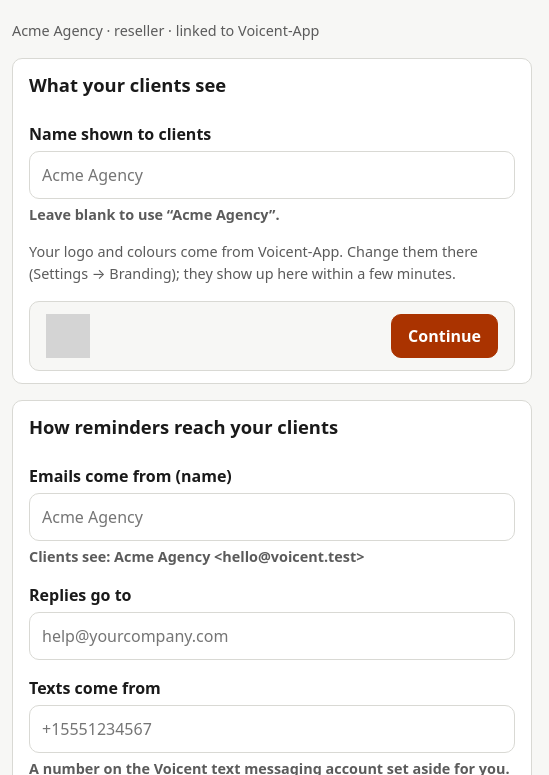
Settings › a linked org gets its logo and colours from Voicent-App, and the senders are saved
Expected: the text "come from Voicent-App" is shown, top-left (29, 242), bottom-right (478, 283)
Expected: the text "Clients see: Acme Agency <hello@voicent.test>" is shown, top-left (29, 547), bottom-right (364, 566)
Step 1. Type "help@acme.test" into the field labelled "Replies go to" → (272, 636), box top-left (29, 612), bottom-right (515, 660)
(page scrolled)
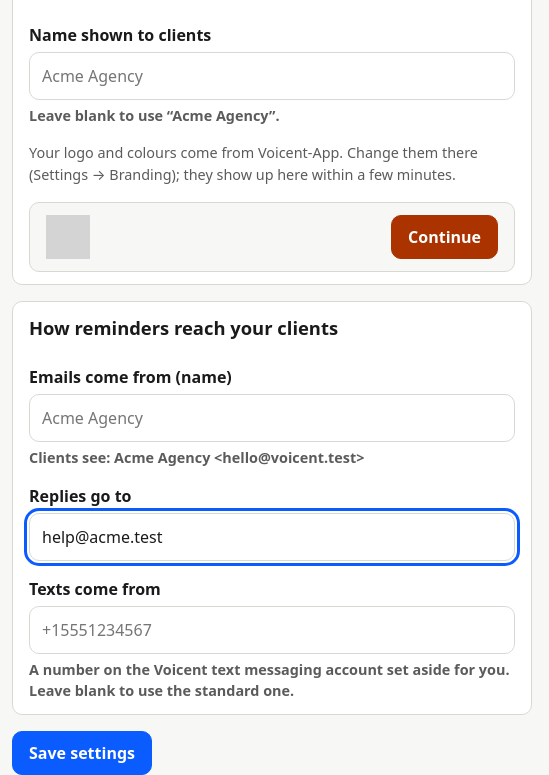
Step 2. Click the button "Save settings" → (82, 753), box top-left (12, 731), bottom-right (152, 774)
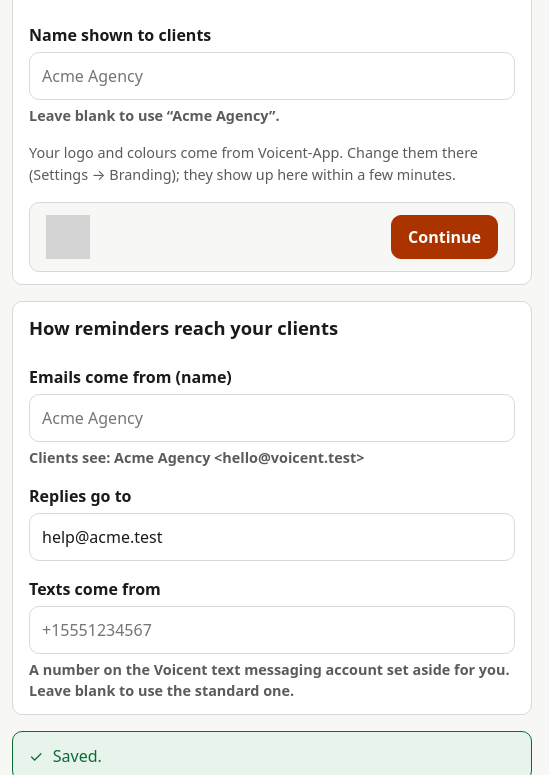
Now the text "Saved." is shown, box top-left (53, 744), bottom-right (102, 768)
